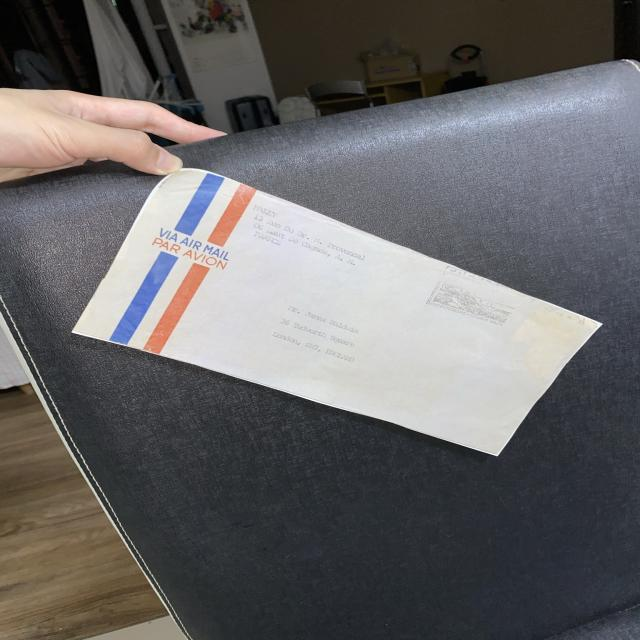document: (73, 169, 600, 455)
